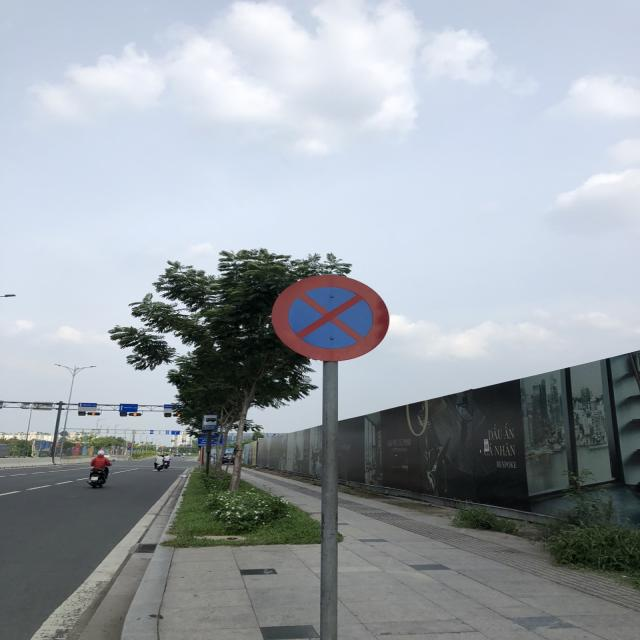Bien bao cam dung xe va do xe: (263, 267, 394, 361)
